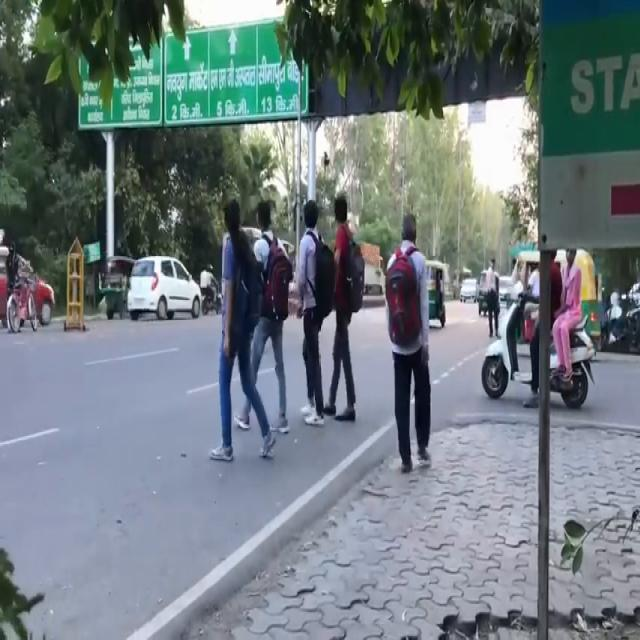MOTORCYCLE: (480, 292, 594, 408)
